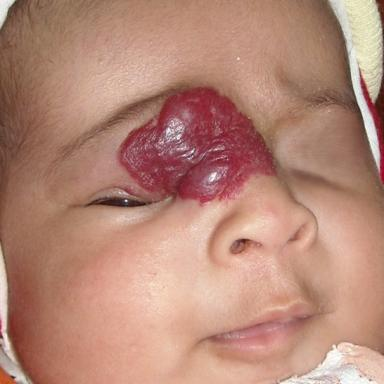Hemangiome: (120, 88, 275, 203)
